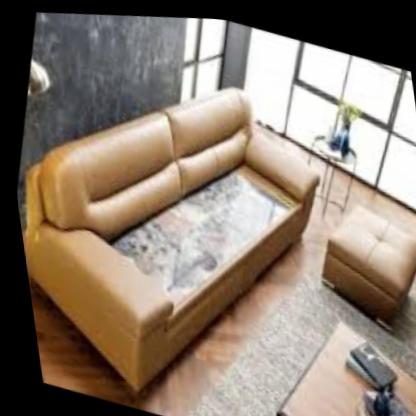Sofa: (0, 2, 374, 416)
